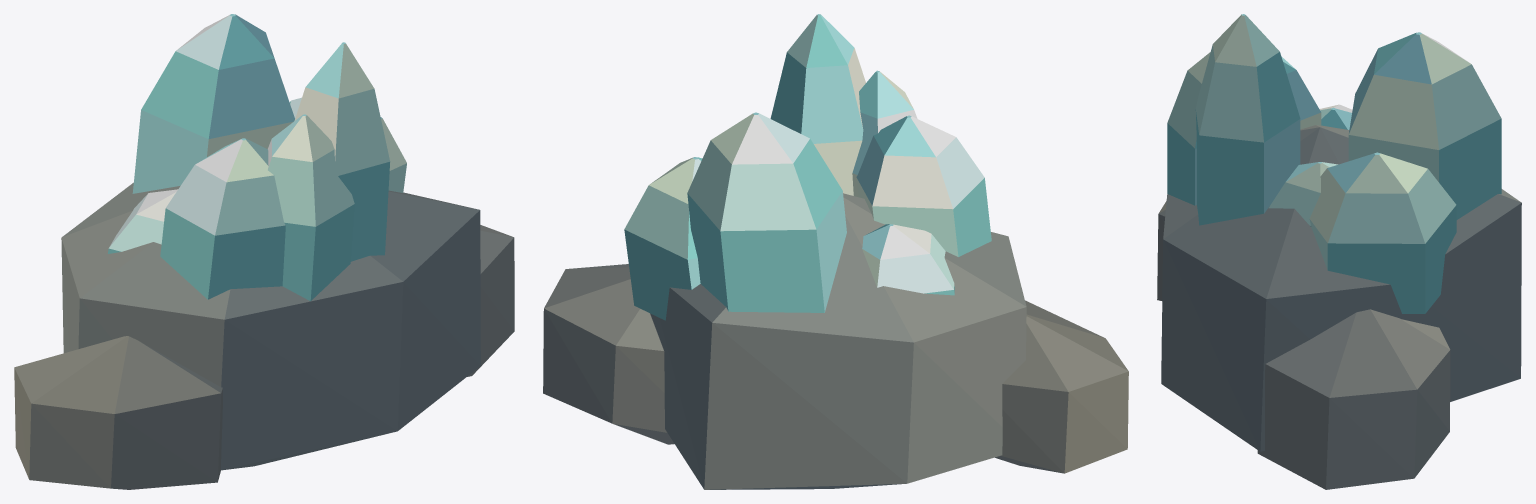
The model's file is extension_node_12.glb.
3 renders of one model, left to right at view 1: azimuth 30°, elevation 25°; view 2: azimuth 150°, elevation 25°; view 3: azimuth 270°, elevation 25°, orthographic.
Visible parts, largest first — view 1: extension_node_12; view 2: extension_node_12; view 3: extension_node_12.
Part boxes in pixels (x1,y1,x2,y2): extension_node_12: (14,14,514,489); extension_node_12: (543,14,1128,489); extension_node_12: (1157,14,1521,489).
Bounding box in the file's own units: 1.6 × 1.28 × 0.9584.
